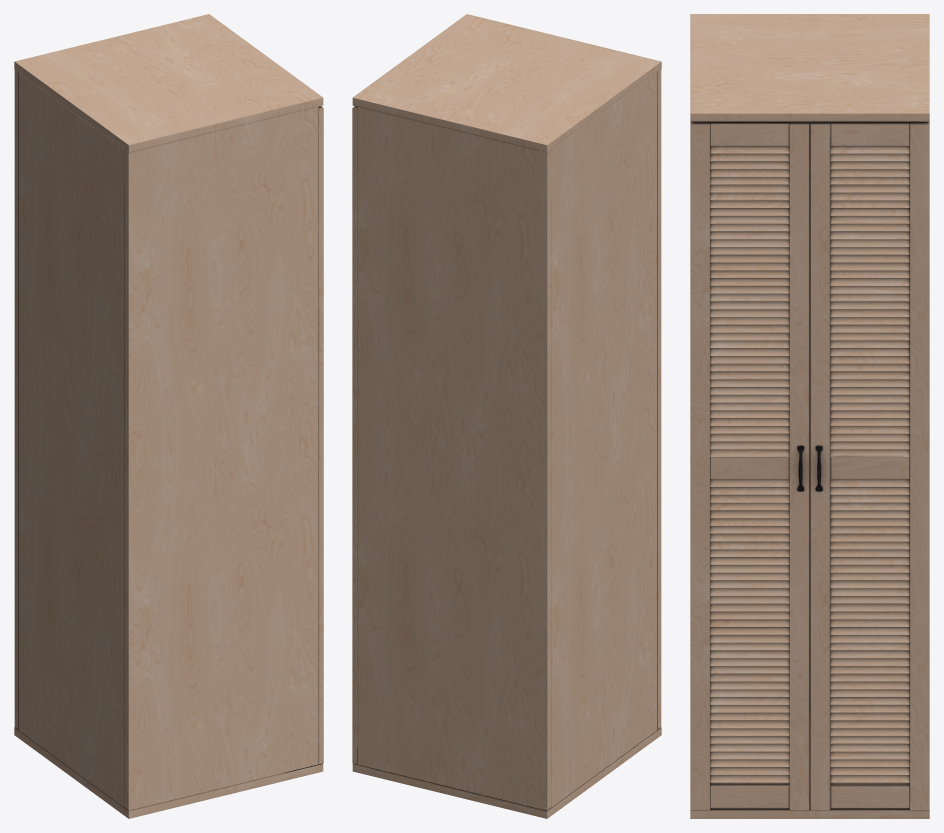
File: cab.glb
3 renders of one model, left to right at view 1: azimuth 30°, elevation 25°; view 2: azimuth 150°, elevation 25°; view 3: azimuth 270°, elevation 25°, orthographic. The views are drawn at different scales.
Parts seen in each view (by area): view 1: cabinet_12_01; view 2: cabinet_12_01; view 3: cabinet_12_01.
Boxes of the visible parts, box(x1,y1,x2,y2) form: cabinet_12_01: box(14, 14, 323, 818); cabinet_12_01: box(352, 14, 661, 818); cabinet_12_01: box(690, 14, 929, 818).
Size of the model in its own units: 0.6099 by 1.95 by 0.6003.
Materials: 1 (1 with a texture image).
